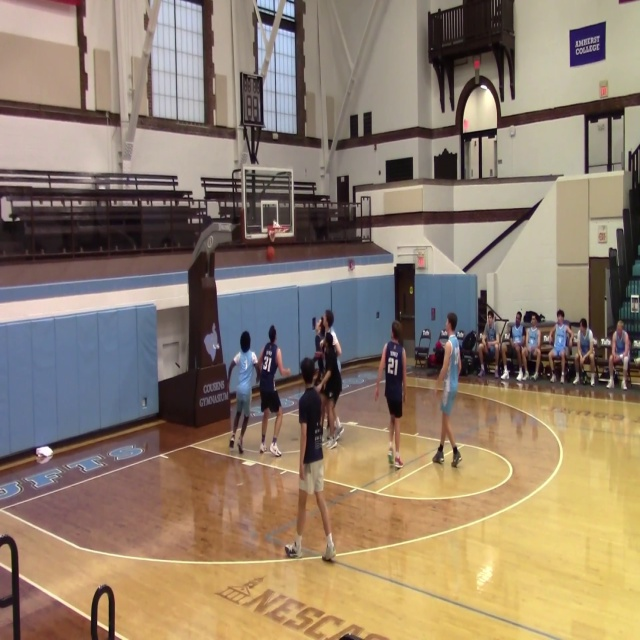Basketball: (266, 246, 275, 259)
